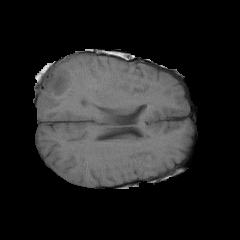glioma: (40, 66, 91, 108)
